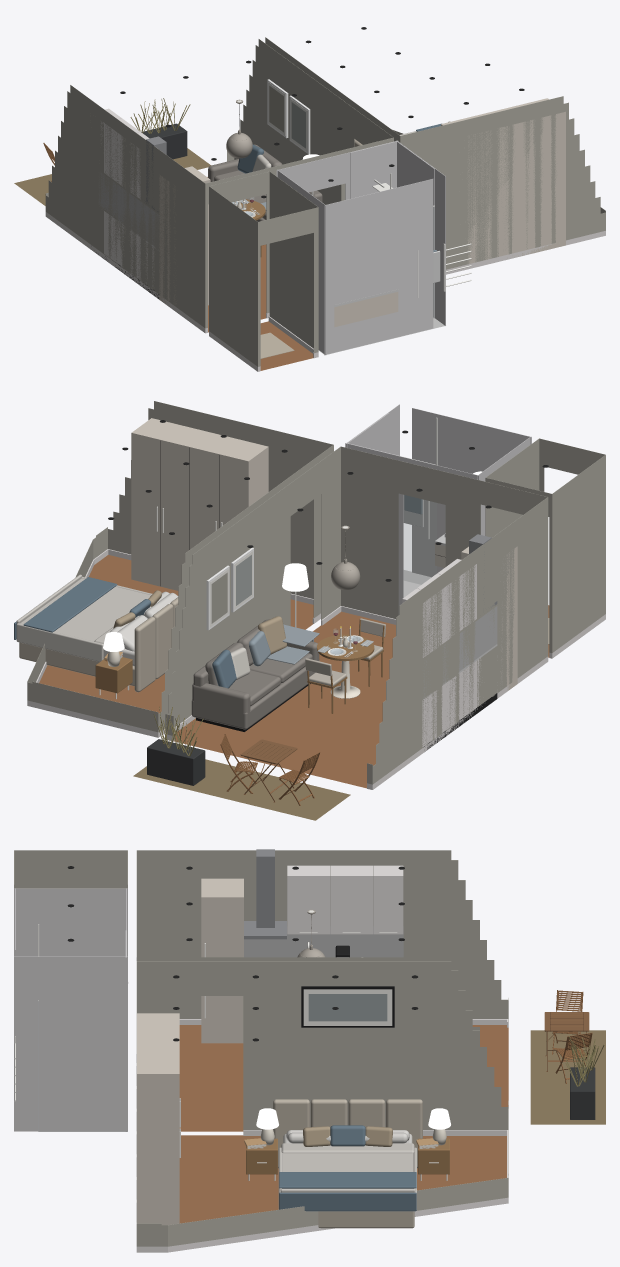
Rendered from unit-2.B-atlantic.glb.
The picture shows the model from 3 angles, top to bottom: view 1: azimuth 30°, elevation 25°; view 2: azimuth 150°, elevation 25°; view 3: azimuth 270°, elevation 25°; orthographic projection. The views are drawn at different scales.
Visible parts, largest first — view 1: int-wall, int-bathWall, int-joineryTall, int-showerWall, int-joinery, int-skirting, int-splash, int-hallFloor, int-deck, int-sofa, int-outdoor, int-white (+8 smaller); view 2: int-wall, int-joineryTall, int-floor, int-bathWall, int-sofa, int-joinery, int-deck, int-duvet, int-headboard, int-skirting, int-glass, int-outdoor (+21 smaller); view 3: int-wall, int-bathWall, int-floor, int-joineryTall, int-joinery, int-headboard, int-deck, int-bedThrow, int-duvet, int-splash, int-skirting, int-art:6:0 (+14 smaller).
Part boxes in pixels (x1,y1,x2,y2): int-wall: [45, 37, 605, 366]; int-bathWall: [276, 140, 445, 355]; int-joineryTall: [159, 98, 565, 327]; int-showerWall: [350, 140, 434, 317]; int-joinery: [100, 108, 154, 288]; int-skirting: [45, 212, 605, 371]; int-splash: [98, 172, 159, 245]; int-hallFloor: [260, 321, 313, 370]; int-deck: [14, 148, 210, 205]; int-sofa: [208, 144, 322, 221]; int-outdoor: [141, 123, 187, 159]; int-white: [267, 79, 310, 154]; int-wall: [27, 401, 605, 784]; int-joineryTall: [131, 418, 517, 690]; int-floor: [39, 555, 395, 788]; int-bathWall: [345, 404, 531, 614]; int-sofa: [191, 619, 319, 729]; int-joinery: [402, 559, 497, 746]; int-deck: [133, 759, 350, 820]; int-duvet: [16, 574, 152, 661]; int-headboard: [19, 597, 178, 692]; int-skirting: [27, 549, 605, 789]; int-glass: [404, 495, 436, 584]; int-outdoor: [147, 739, 205, 785]; int-wall: [14, 850, 508, 1246]; int-bathWall: [14, 888, 127, 1131]; int-floor: [179, 1025, 508, 1223]; int-joineryTall: [137, 878, 243, 1225]; int-joinery: [287, 865, 403, 934]; int-headboard: [273, 1099, 422, 1228]; int-deck: [530, 1030, 605, 1124]; int-bedThrow: [279, 1172, 416, 1211]; int-duvet: [278, 1143, 416, 1209]; int-splash: [244, 926, 403, 957]; int-skirting: [136, 1019, 508, 1252]; int-art:6:0: [308, 994, 387, 1021].
Size of the model in its own units: 7.52 by 2.8 by 8.26.
